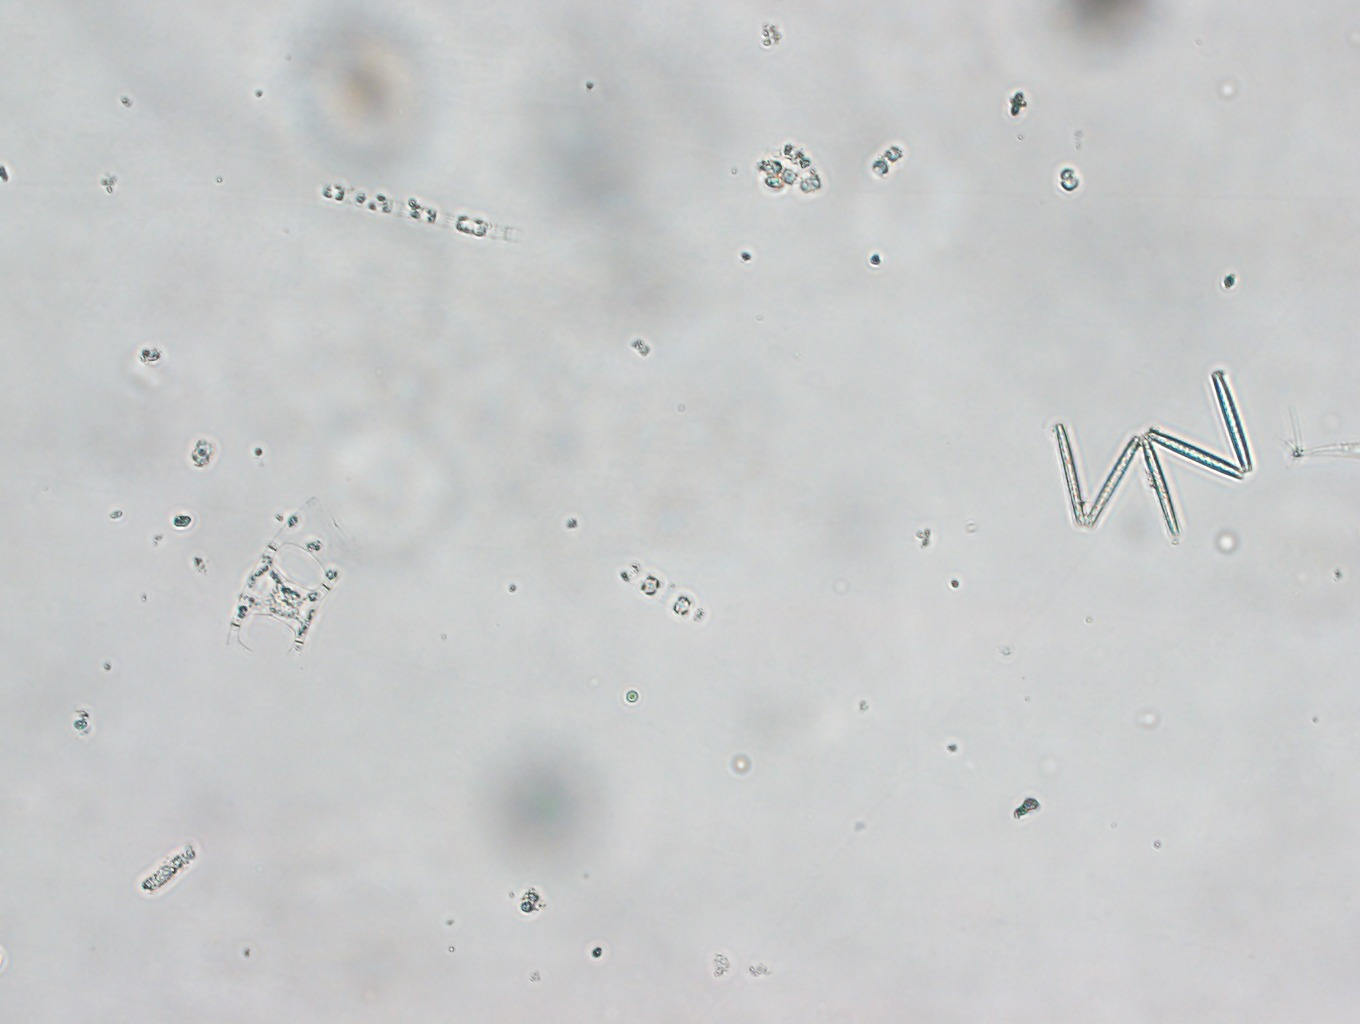thalassionema nitzschioides: (1045, 374, 1272, 538)
